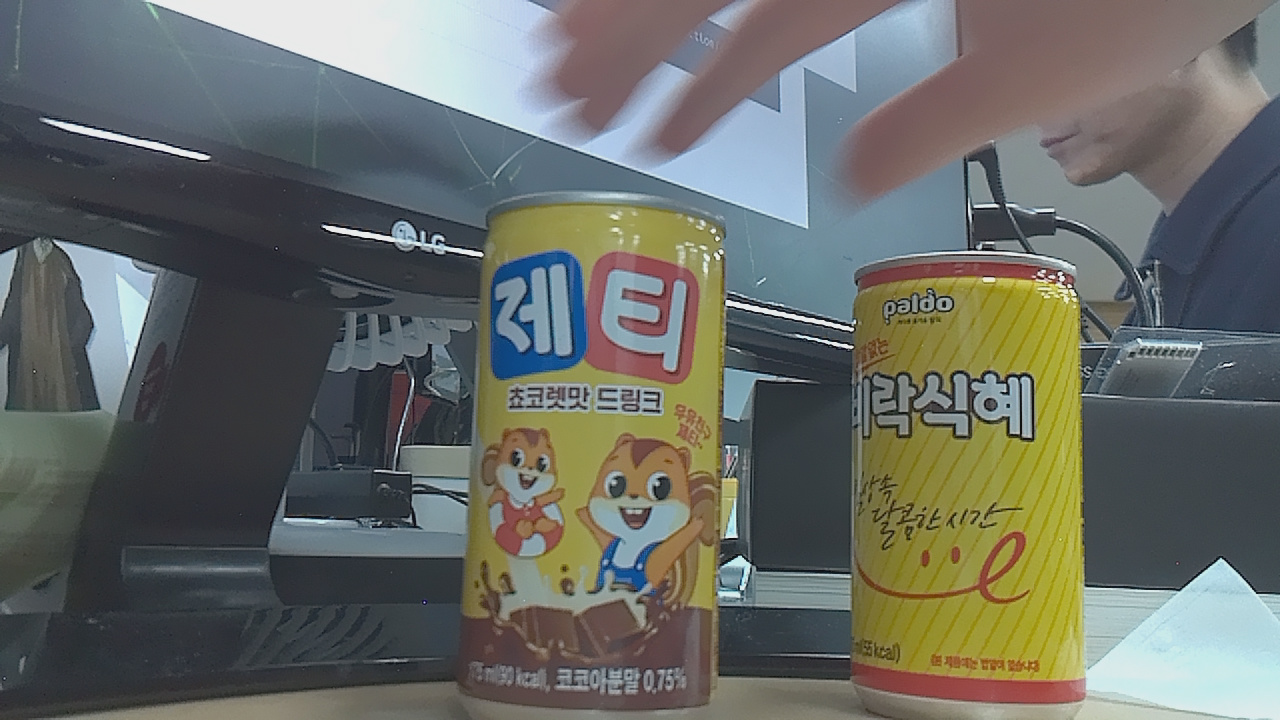jetty: (433, 188, 751, 720)
paldo shikhye: (842, 250, 1090, 720)
